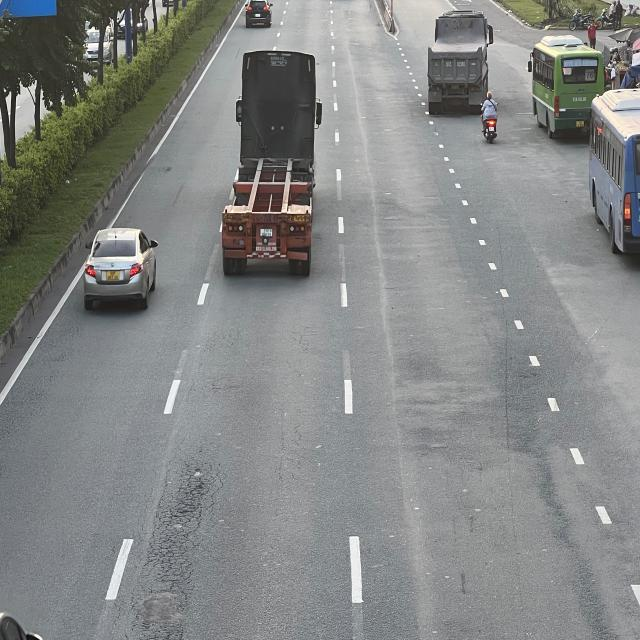car: (86, 229, 162, 314), (245, 0, 273, 29)
coach: (587, 88, 637, 256), (530, 39, 605, 138)
container: (220, 50, 322, 282), (424, 11, 492, 117)
